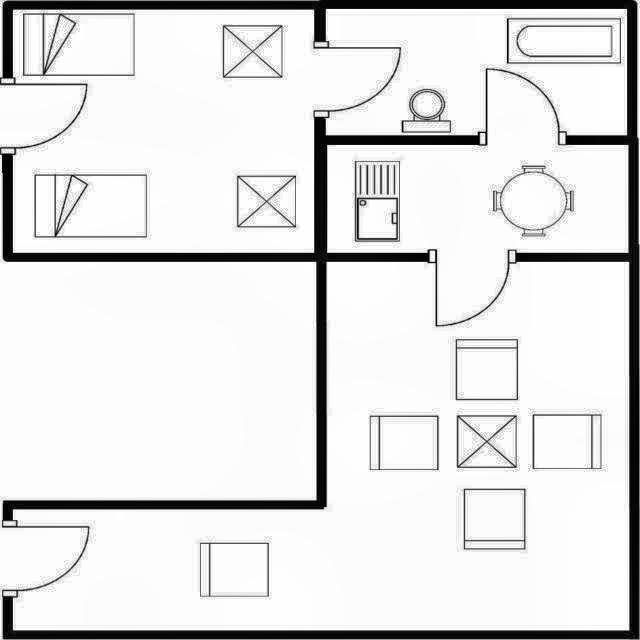room: (13, 262, 630, 630), (13, 9, 314, 253), (326, 9, 627, 135), (327, 145, 629, 253)
